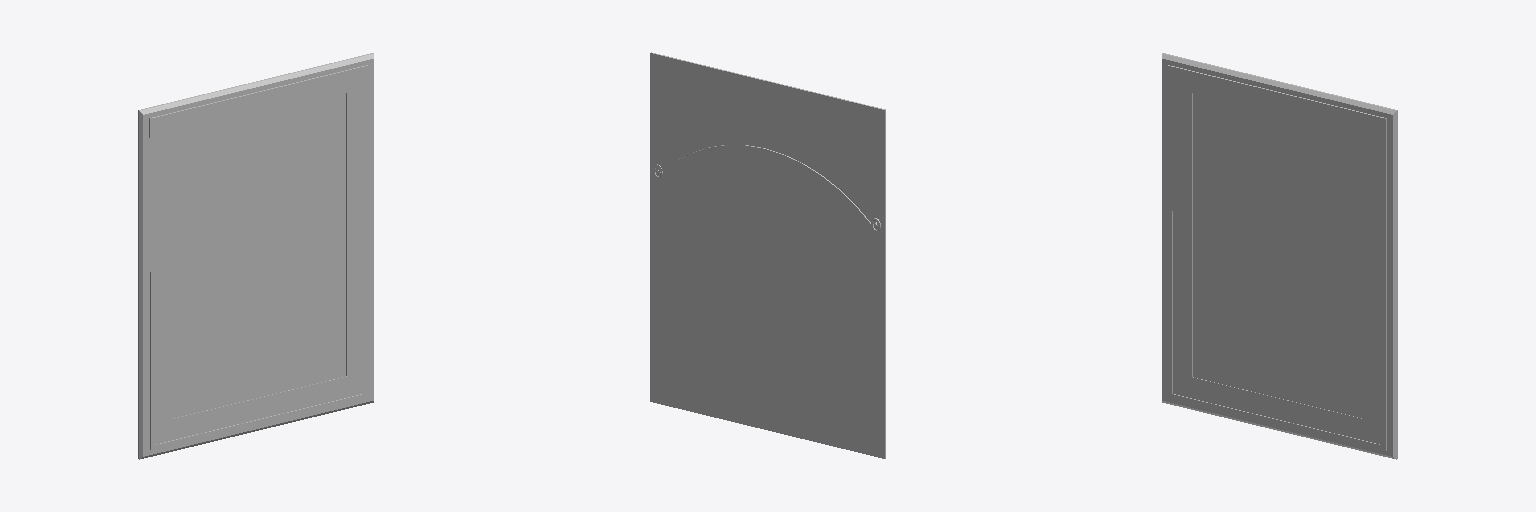
The model's file is painting.obj.
3 renders of one model, left to right at view 1: azimuth 30°, elevation 25°; view 2: azimuth 150°, elevation 25°; view 3: azimuth 330°, elevation 25°, orthographic.
Parts seen in each view (by area): view 1: Layer0_001; view 2: Layer0_001; view 3: Layer0_001.
Part boxes in pixels (left/top/right/bottom): Layer0_001: left=138, top=53, right=373, bottom=459; Layer0_001: left=650, top=52, right=885, bottom=458; Layer0_001: left=1162, top=53, right=1397, bottom=459.
Bounding box in the file's own units: 3012 × 4274 × 143.